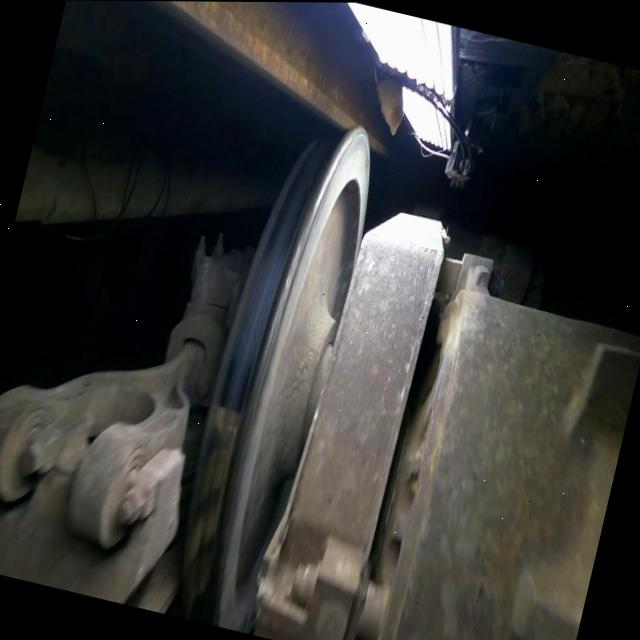Cracks-Scratches: (300, 129, 361, 247), (263, 243, 302, 344)
Discoloration: (262, 141, 331, 254), (215, 359, 254, 413)
Shelling: (183, 405, 244, 610)
Wheel: (181, 125, 370, 631)
